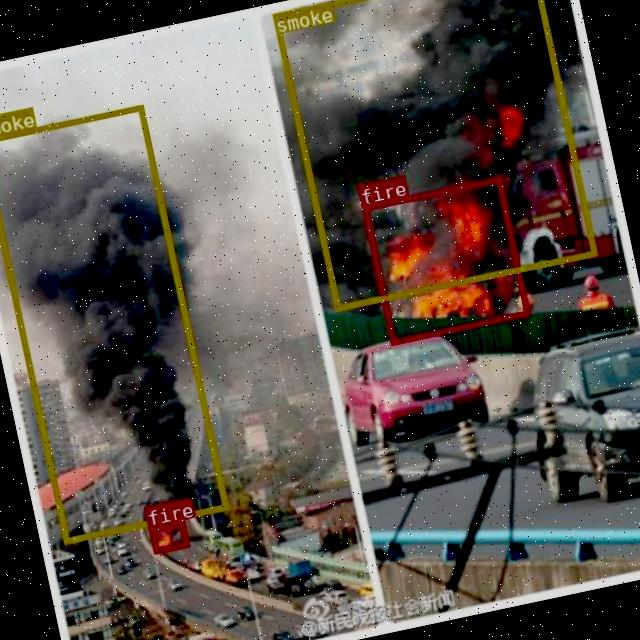fire: (361, 175, 529, 343), (147, 519, 188, 553)
smoke: (270, 0, 595, 310), (0, 103, 227, 543)
